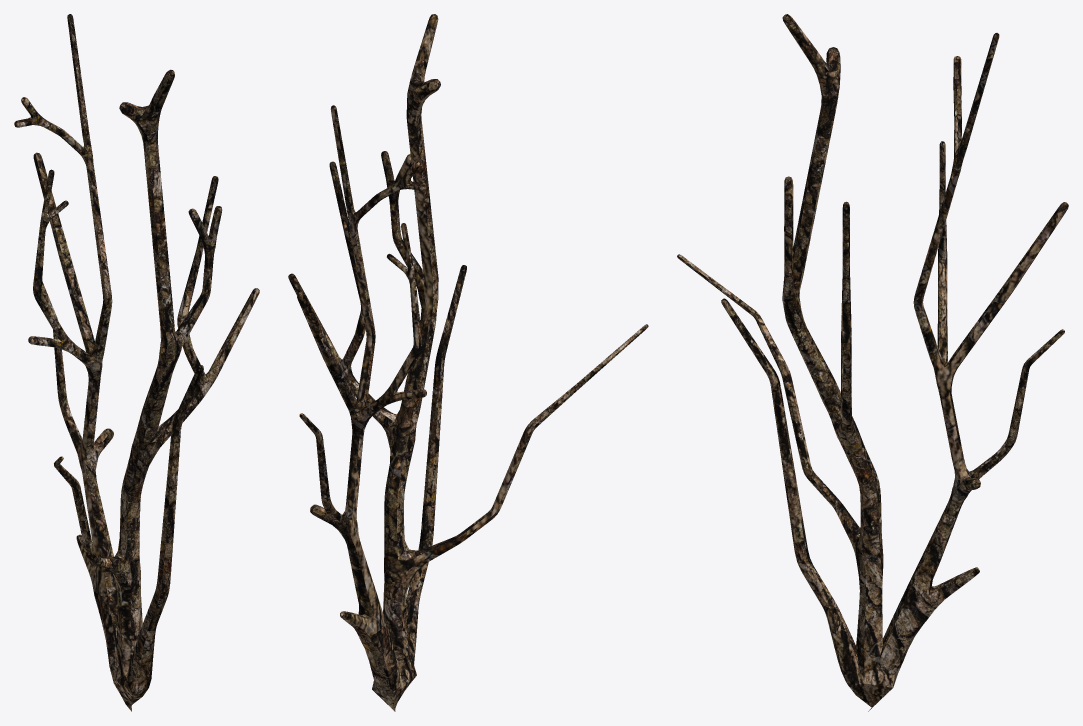
The model's file is dead_shrub_2.fbx.
3 views of the same model, side by side, from view 1: azimuth 30°, elevation 25°; view 2: azimuth 150°, elevation 25°; view 3: azimuth 270°, elevation 25° (orthographic). The views are drawn at different scales.
Parts seen in each view (by area): view 1: Cube; view 2: Cube; view 3: Cube.
Boxes of the visible parts, <box> form: Cube: <box>14,14,259,711</box>; Cube: <box>288,14,648,711</box>; Cube: <box>677,14,1068,711</box>.
Size of the model in its own units: 46.01 by 105 by 53.63.
1 material, 1 textured.
